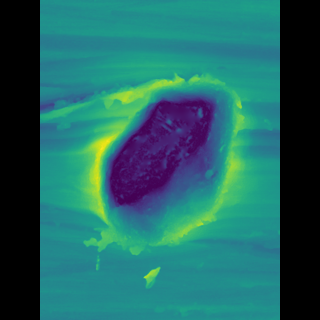Loch: (99, 61, 235, 251)
